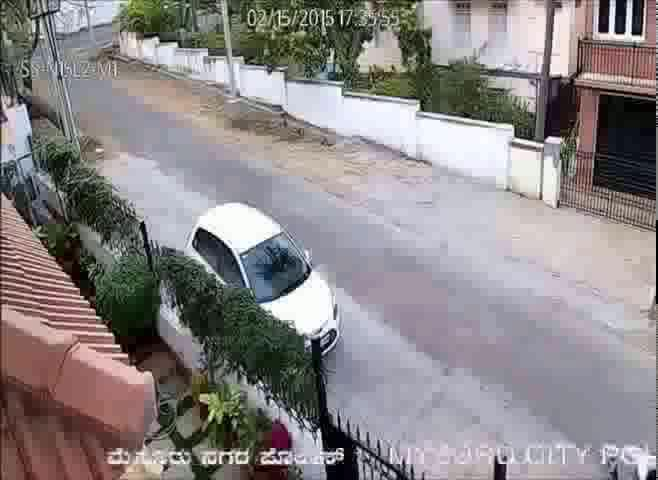snatching objects: (590, 387, 656, 480)
